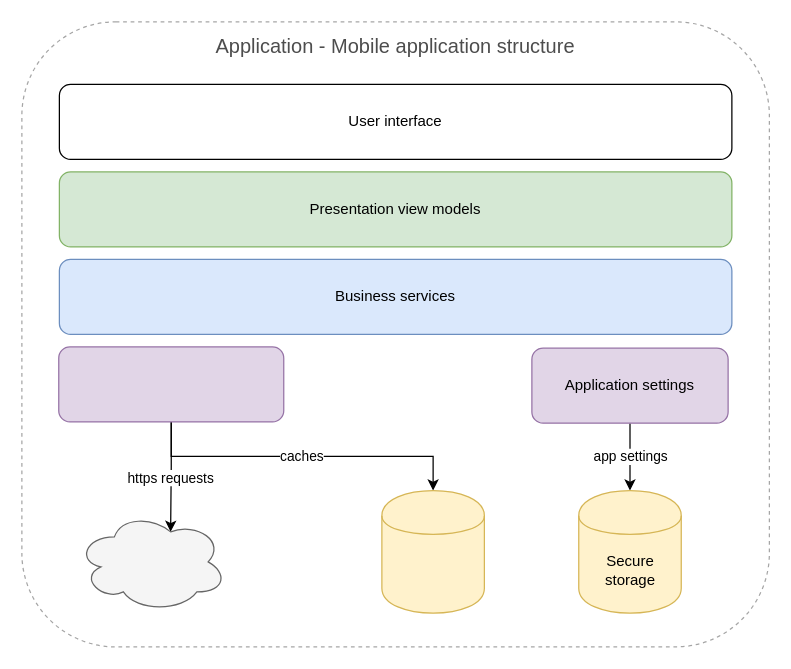
Image size: 791x669. Some labels were removed from this diagram. Each missing label, with the box of its shape:
API: (76, 511, 227, 612)
API endpoints: (58, 346, 284, 422)
Internal storage: (381, 489, 484, 613)
